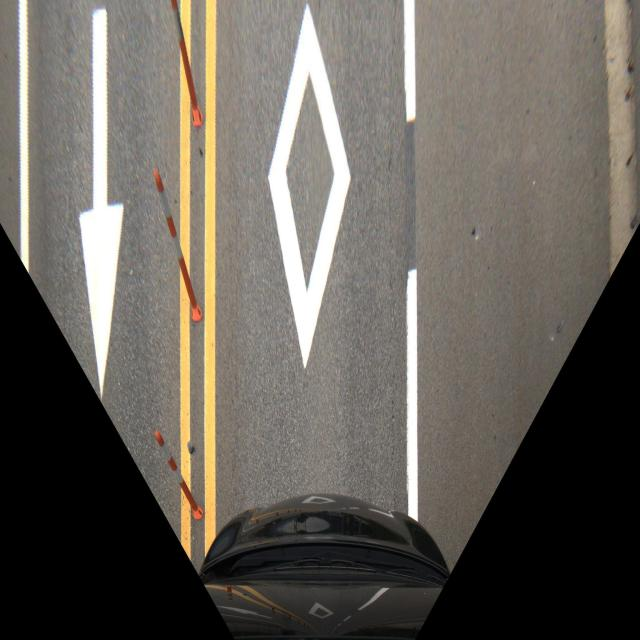diamond: (212, 0, 422, 375)
